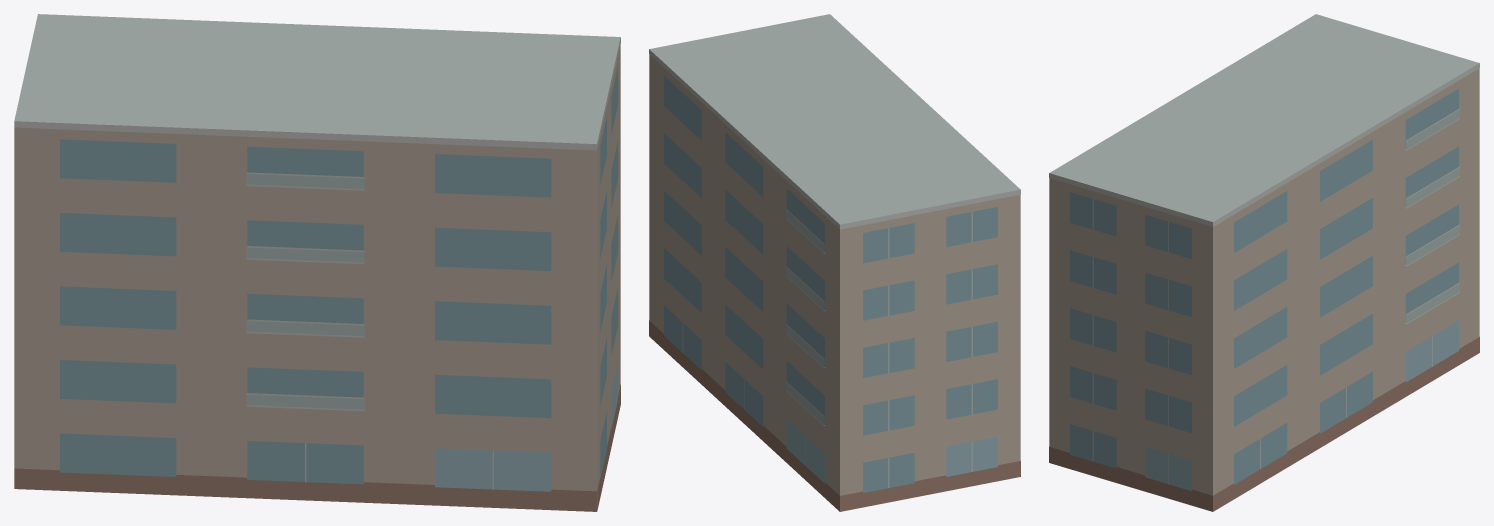
The model's file is survey-upis-32554324.glb.
The picture shows the model from 3 angles, left to right: view 1: azimuth 30°, elevation 25°; view 2: azimuth 150°, elevation 25°; view 3: azimuth 270°, elevation 25°; orthographic projection. The views are drawn at different scales.
Visible parts, largest first — view 1: survey-upis-32554324.tmp; view 2: survey-upis-32554324.tmp; view 3: survey-upis-32554324.tmp.
Part boxes in pixels (<box>): survey-upis-32554324.tmp: <box>14,14,620,511</box>; survey-upis-32554324.tmp: <box>649,14,1020,511</box>; survey-upis-32554324.tmp: <box>1049,14,1479,511</box>.
Bounding box in the file's own units: 21.72 × 14.1 × 18.99.
